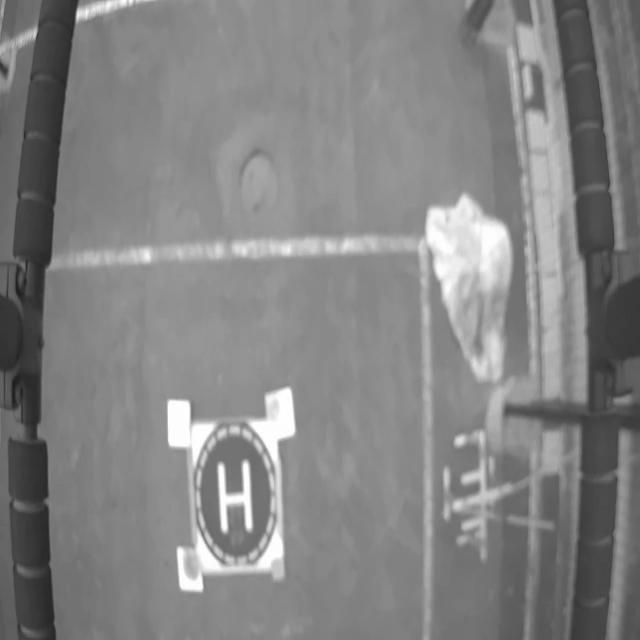Helipad: (216, 454, 255, 538)
